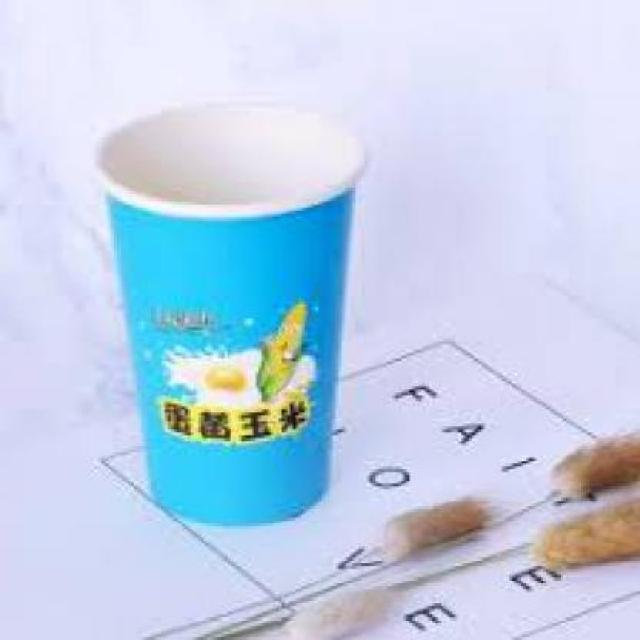paper: (88, 100, 358, 524)
